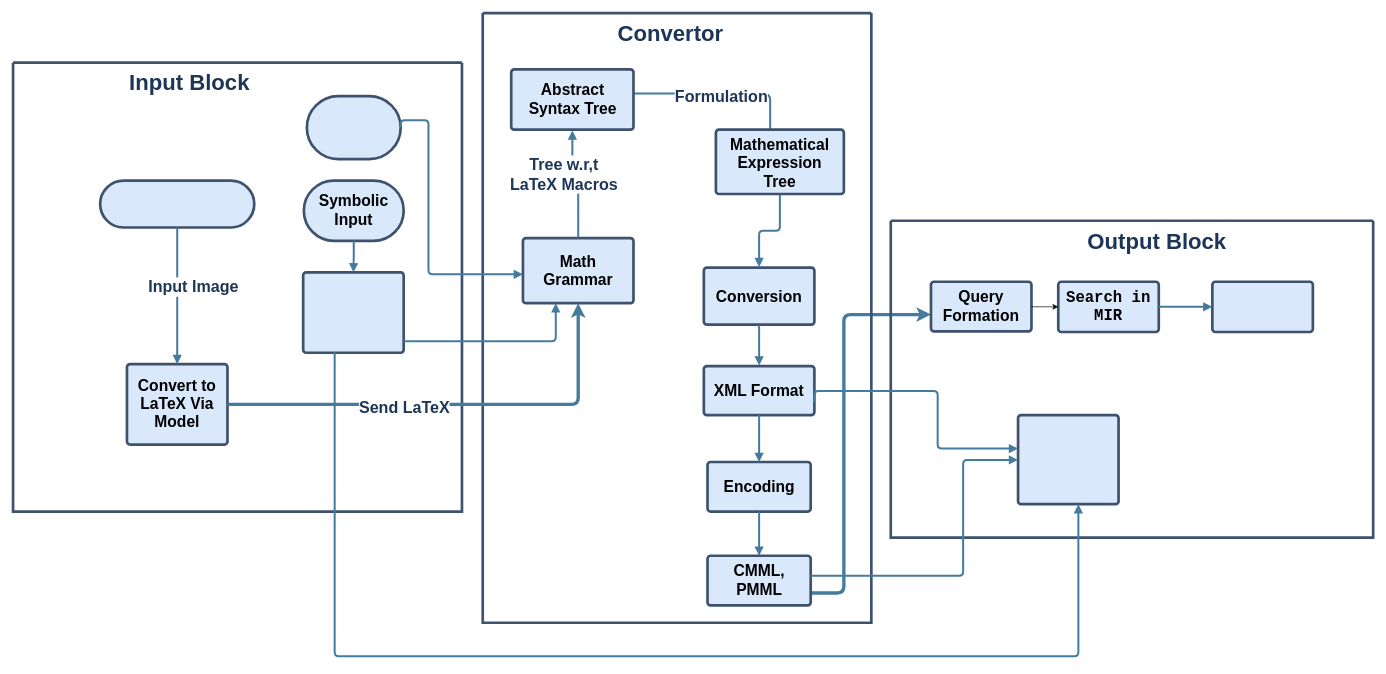
The diagram is 1386 pixels wide and 674 high, and some of its shapes have lost their labels. Here are the shapes that lost their labels. From the top down, the centre of each, then its label:
pixel 353 127: Type LaTeX
pixel 176 203: Image/Handwritten Equation
pixel 353 312: Convert to LaTeX Via Javascript
pixel 1262 306: Give Result
pixel 1068 459: Save or Copy Converted Format
